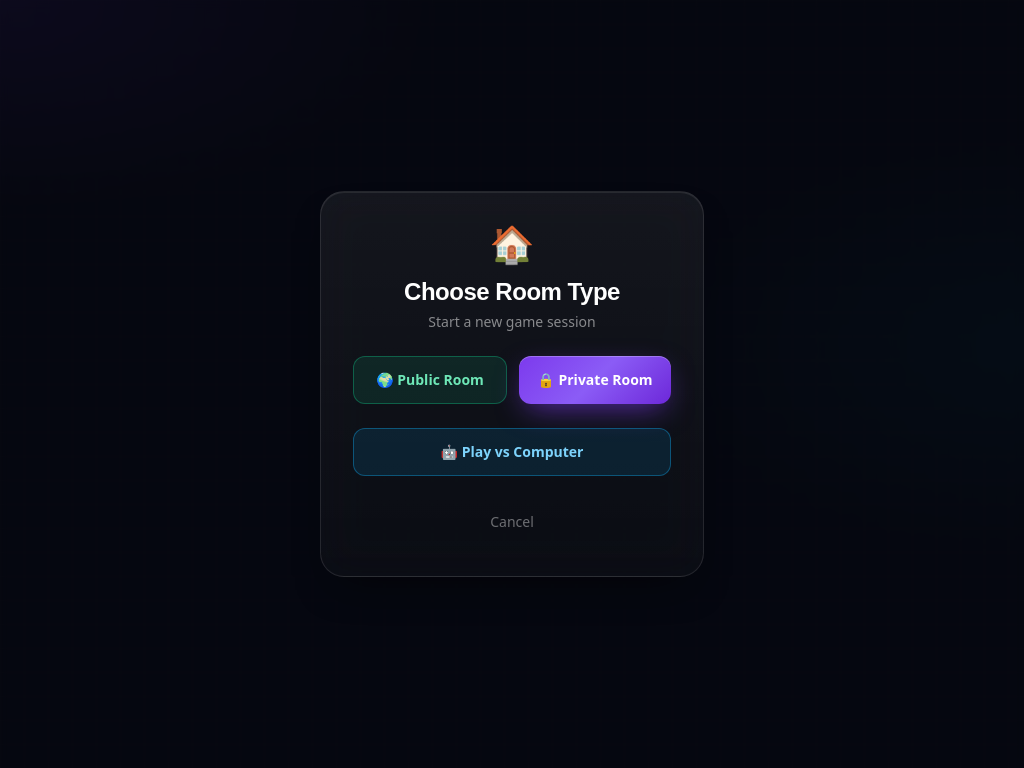
Test: RoomTypeOverlay › Play vs Computer › Back returns to the room types
Click the button "🤖 Play vs Computer".
click(512, 452)  # box top-left (353, 428), bottom-right (671, 476)
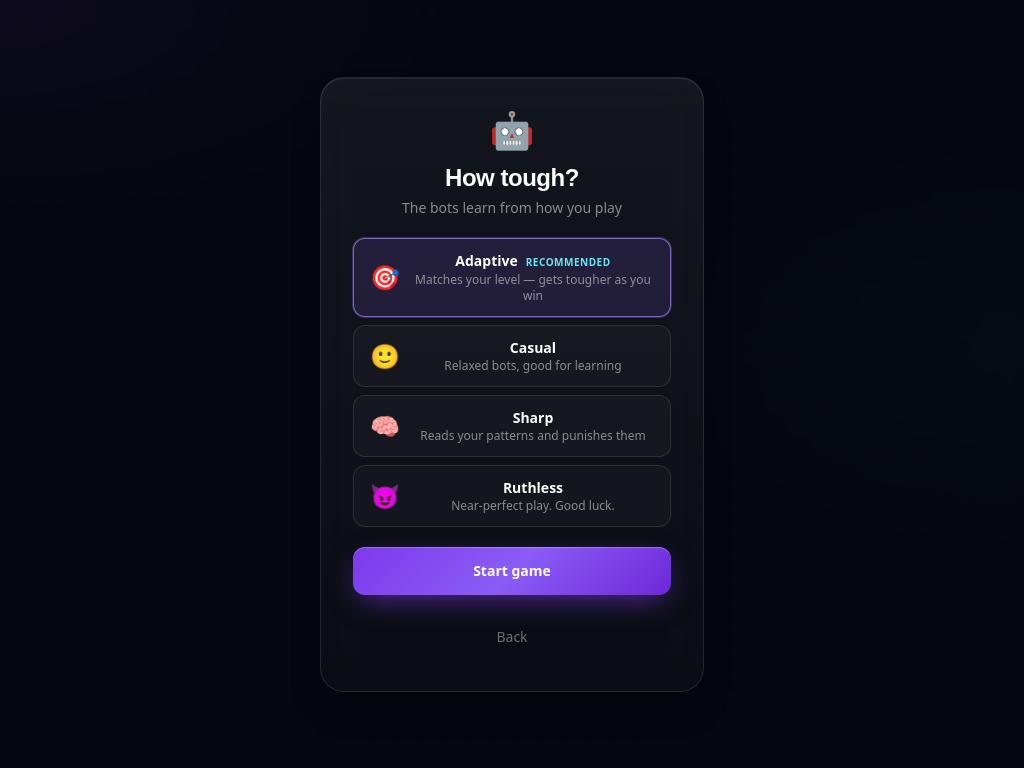
Click the button "Back".
click(512, 636)  # box top-left (480, 614), bottom-right (544, 658)
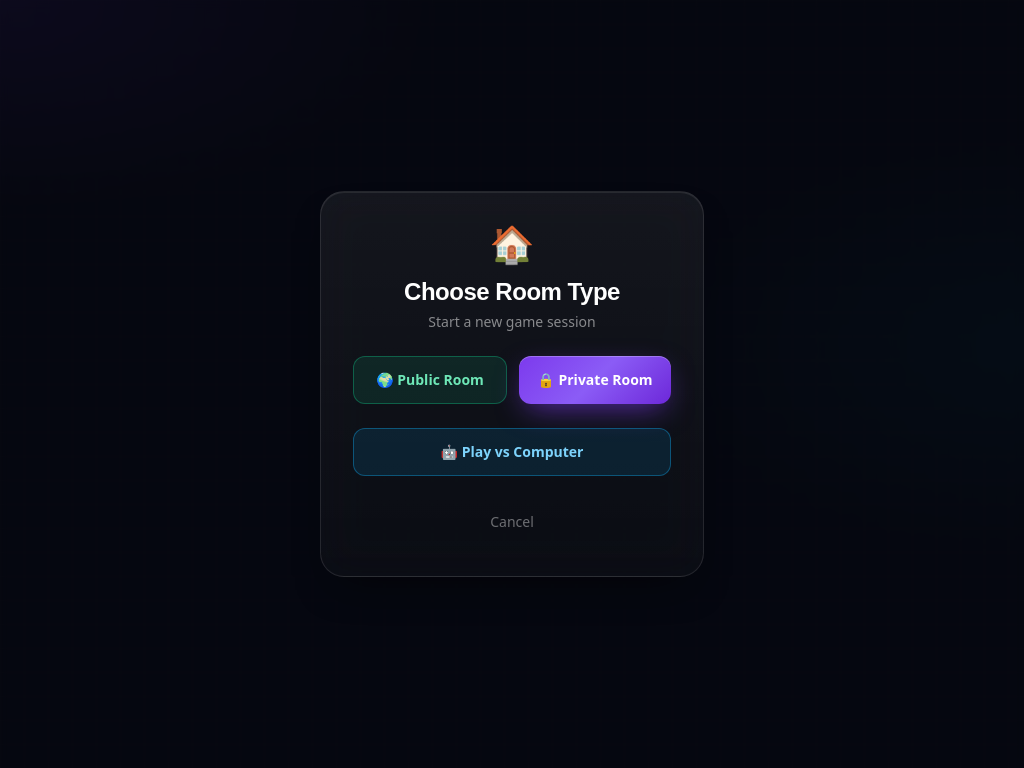
Expected: the heading "Choose Room Type" is shown, top-left (404, 278), bottom-right (620, 305)
